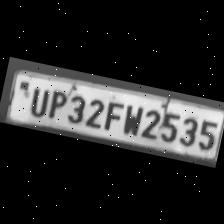2: (136, 104, 162, 140), (82, 93, 106, 129)
3: (174, 110, 200, 148), (61, 89, 86, 125)
5: (154, 106, 181, 144), (193, 114, 220, 152)
F: (100, 97, 124, 133)
P: (43, 86, 68, 120)
U: (24, 83, 50, 117)
W: (118, 100, 144, 138)
